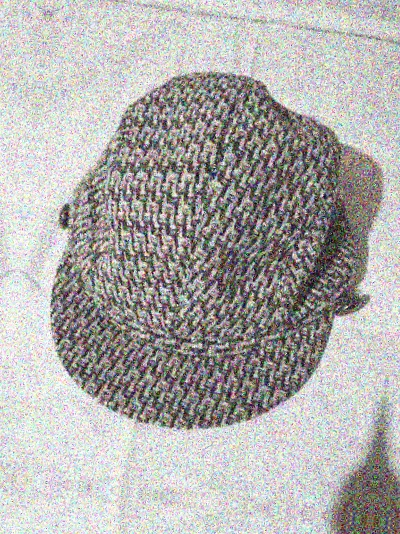Hat: (15, 52, 400, 449), (0, 8, 30, 405), (396, 98, 400, 494)
